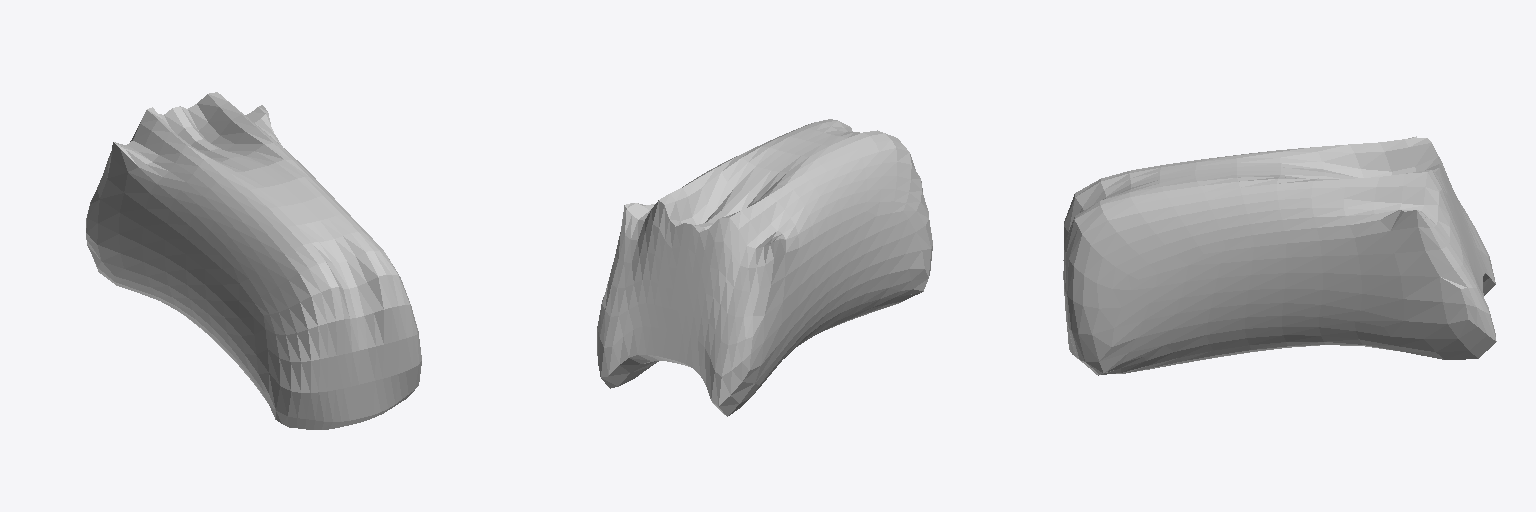
The model's file is vertabrae30.obj.
3 views of the same model, side by side, from view 1: azimuth 30°, elevation 25°; view 2: azimuth 150°, elevation 25°; view 3: azimuth 270°, elevation 25° (orthographic).
Visible parts, largest first — view 1: Cube.116_Cube.117; view 2: Cube.116_Cube.117; view 3: Cube.116_Cube.117.
Boxes of the visible parts, x1,y1,x2,y2 form: Cube.116_Cube.117: [86, 92, 421, 429]; Cube.116_Cube.117: [597, 119, 932, 416]; Cube.116_Cube.117: [1063, 136, 1496, 375].
Size of the model in its own units: 0.0429 by 0.0539 by 0.1045.